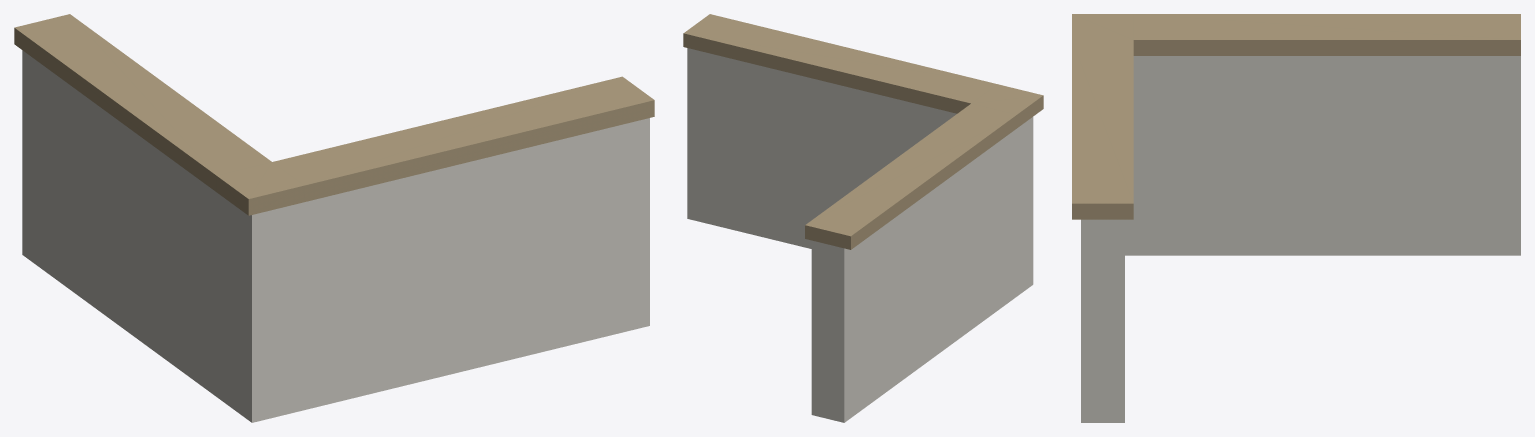
File: OA_Parapet_Corner_2m.fbx
3 views of the same model, side by side, from view 1: azimuth 30°, elevation 25°; view 2: azimuth 150°, elevation 25°; view 3: azimuth 270°, elevation 25° (orthographic). The views are drawn at different scales.
Parts seen in each view (by area): view 1: OA_Parapet_Corner_2m; view 2: OA_Parapet_Corner_2m; view 3: OA_Parapet_Corner_2m.
Part boxes in pixels (left/top/right/bottom): OA_Parapet_Corner_2m: left=14, top=14, right=654, bottom=422; OA_Parapet_Corner_2m: left=683, top=14, right=1043, bottom=422; OA_Parapet_Corner_2m: left=1072, top=14, right=1520, bottom=422.
Bounding box in the file's own units: 2.04 × 1.1 × 2.04.
2 materials, 2 textured.
